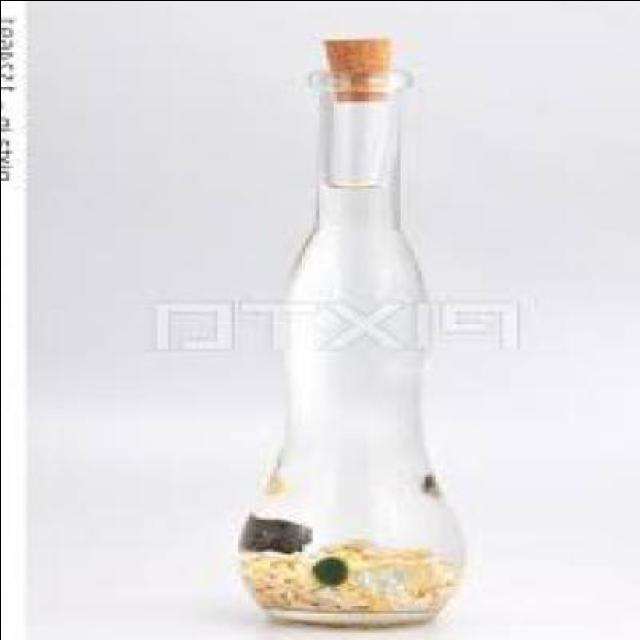kaca: (244, 68, 462, 628)
